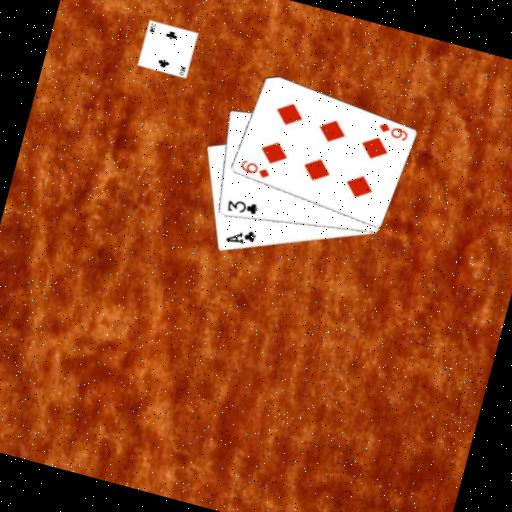3C: (222, 193, 261, 220)
6D: (235, 156, 272, 181), (373, 118, 410, 143)
AC: (221, 221, 258, 250)
